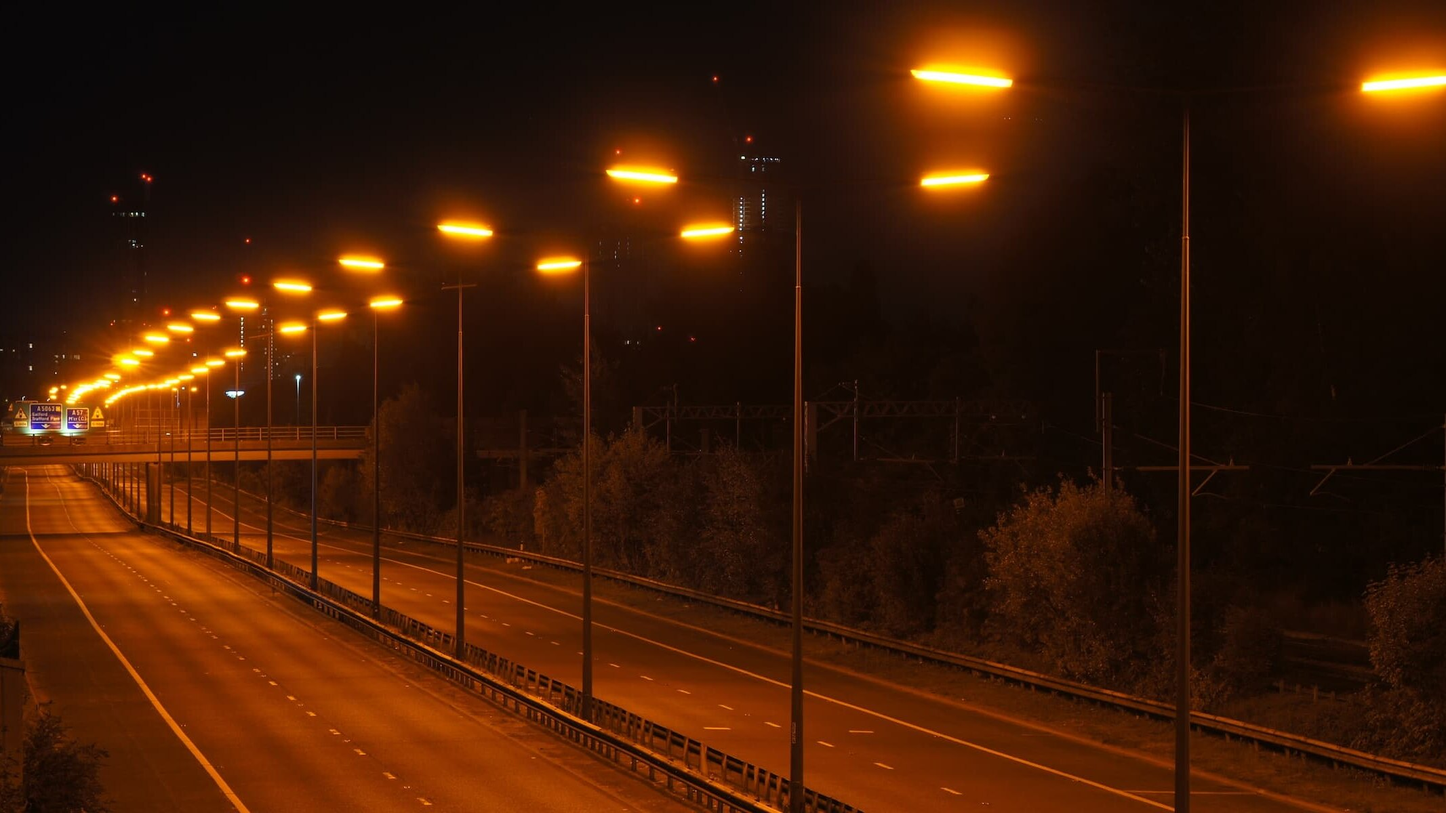Lamp: (887, 30, 1446, 812), (590, 142, 1049, 813), (429, 186, 748, 714)
